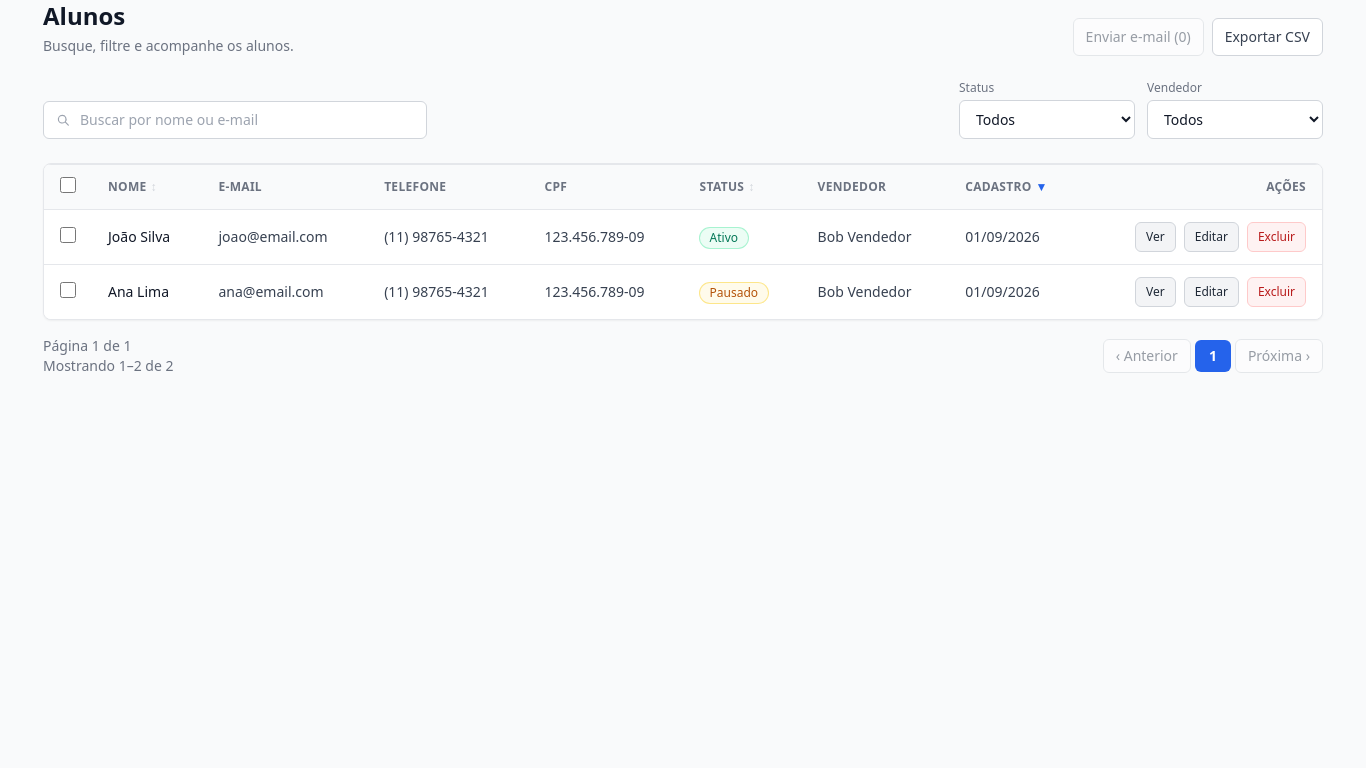
Test case: página de alunos › RBAC cosmético › cancelar a confirmação não exclui
Click the button "Excluir" in the row of "Ana Lima".
click(1276, 292)  # box top-left (1247, 277), bottom-right (1306, 307)
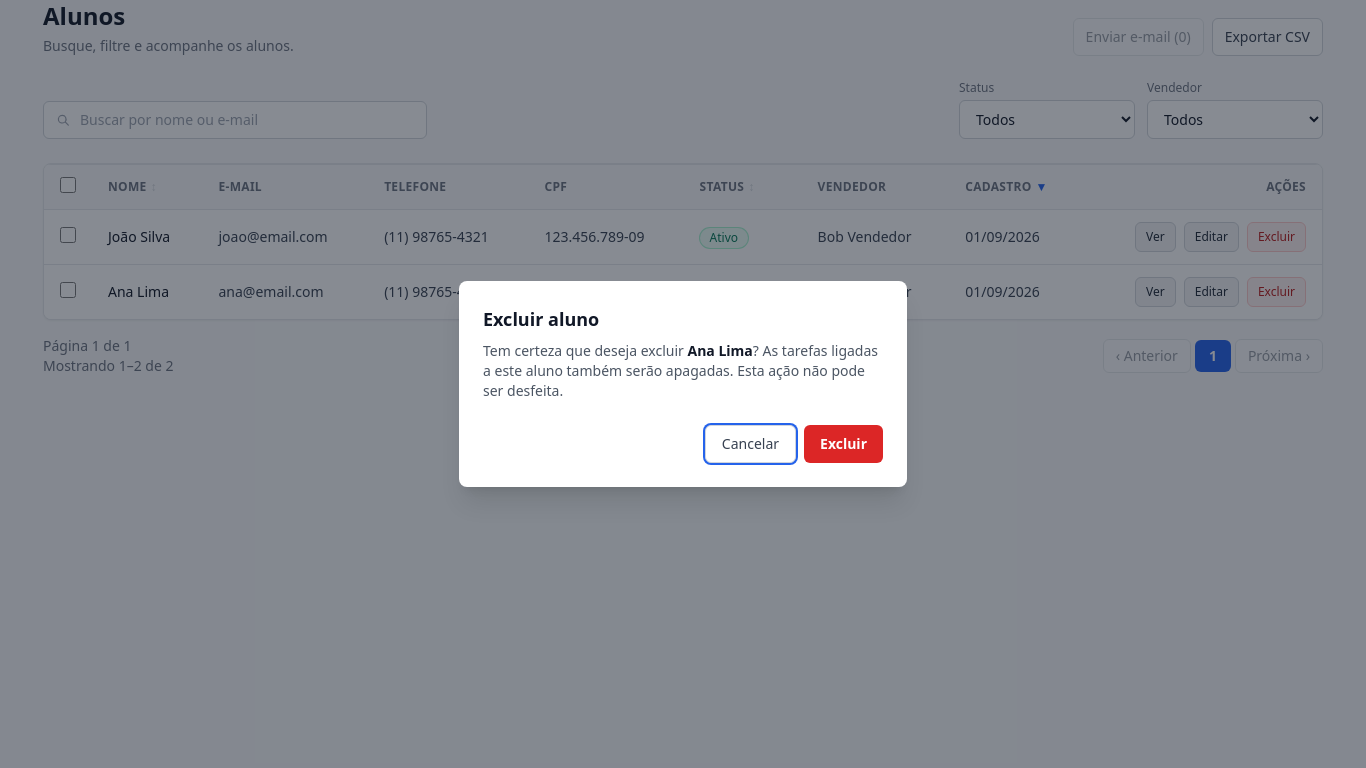
Click the button "Cancelar".
click(750, 444)  # box top-left (705, 425), bottom-right (796, 463)
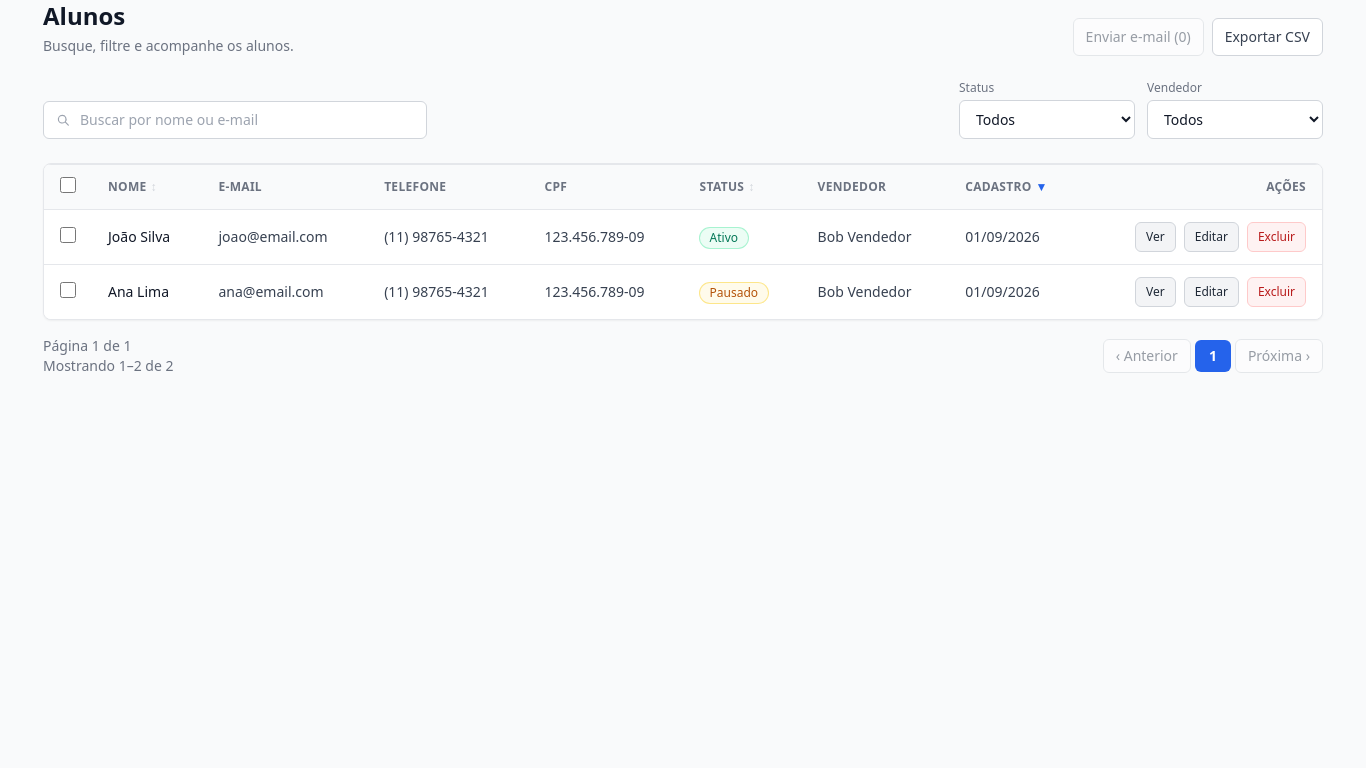
Now the dialog is gone
